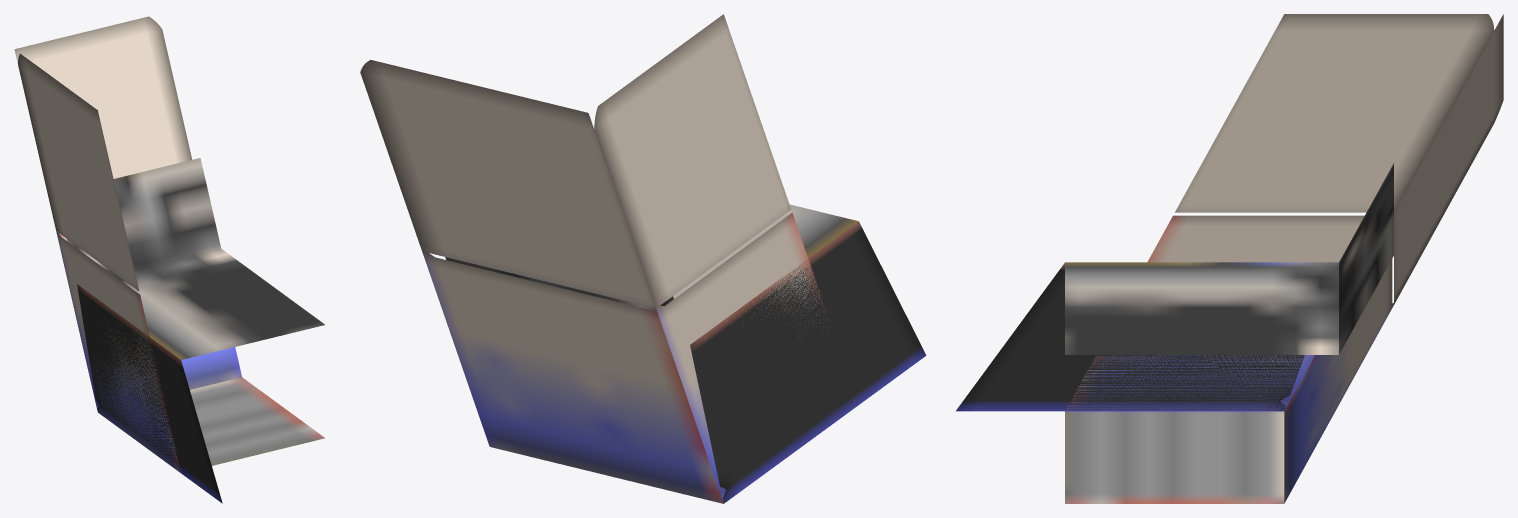
File: tile_healer_1.obj
3 views of the same model, side by side, from view 1: azimuth 30°, elevation 25°; view 2: azimuth 150°, elevation 25°; view 3: azimuth 270°, elevation 25° (orthographic). The views are drawn at different scales.
Parts seen in each view (by area): view 1: Default; view 2: Default; view 3: Default.
Part boxes in pixels (left/top/right/bottom): Default: left=14, top=16, right=324, bottom=503; Default: left=360, top=14, right=926, bottom=503; Default: left=956, top=14, right=1503, bottom=503.
Bounding box in the file's own units: 1 × 2 × 2.5.
